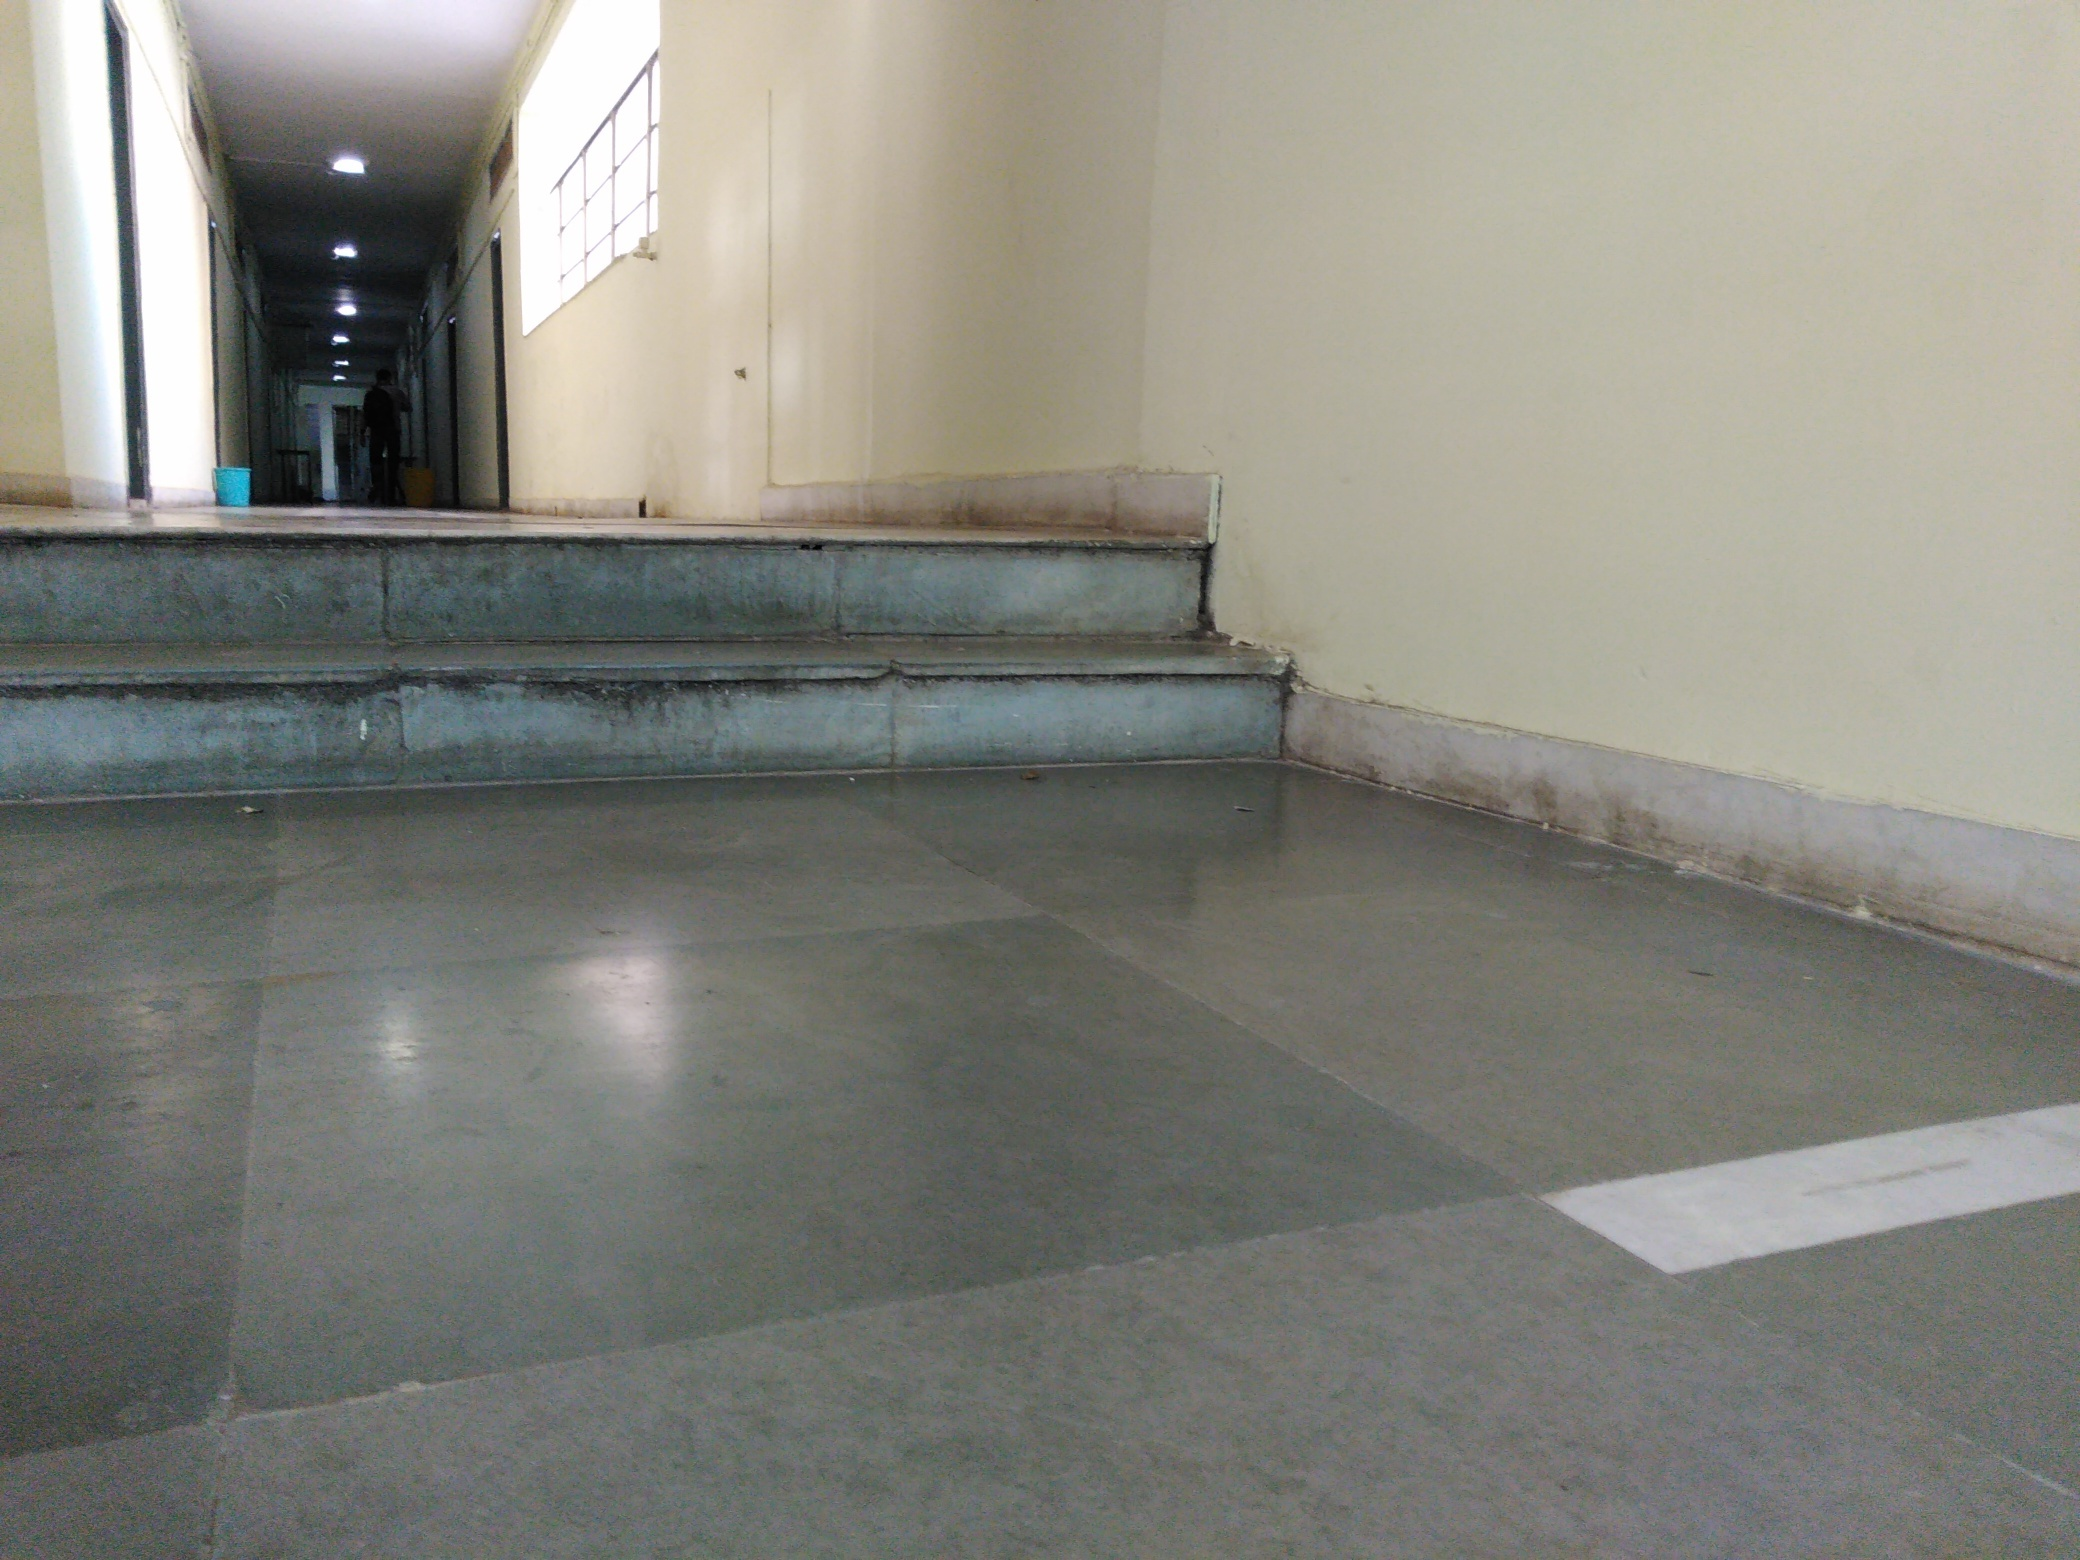stairs_up: (8, 519, 1271, 782)
